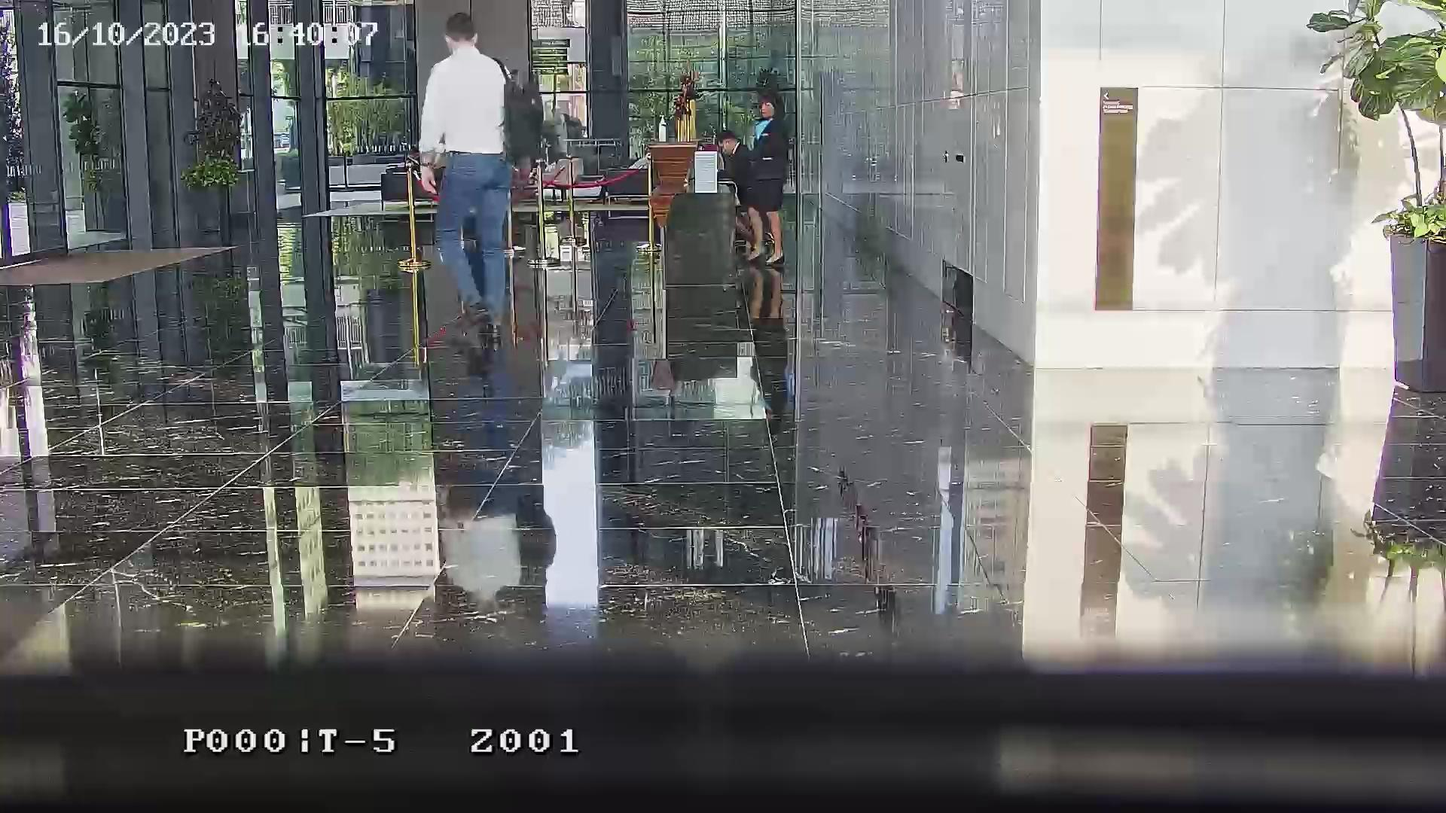person: (414, 11, 514, 328), (742, 91, 790, 265), (715, 132, 752, 205)
